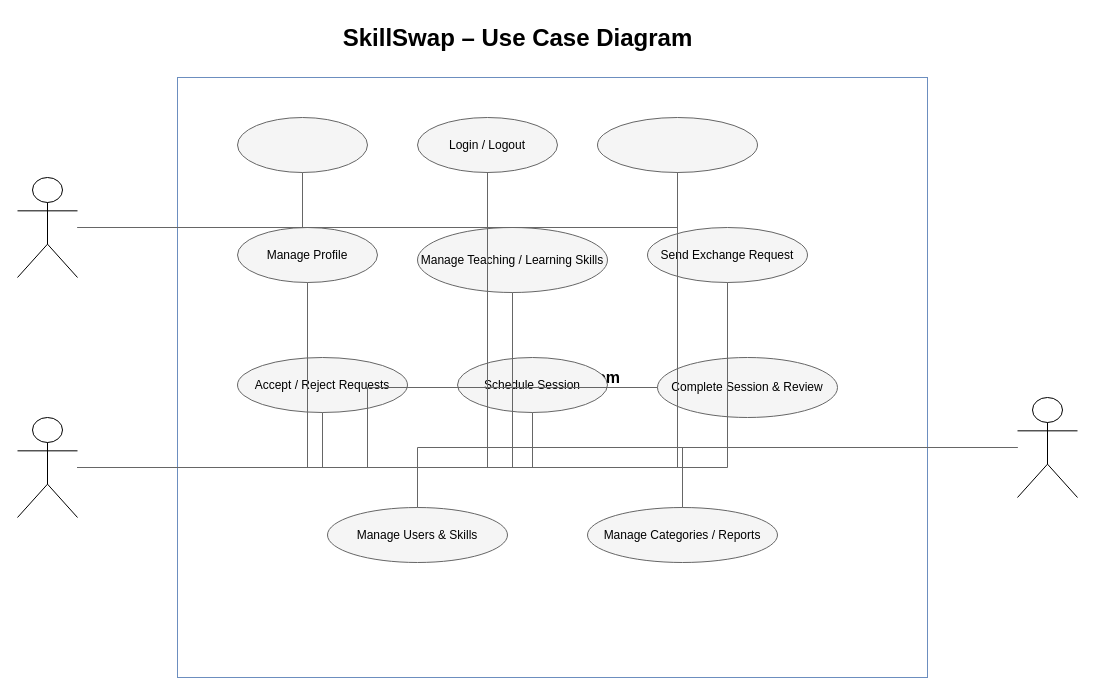
Image size: 1095x695. Some labels were removed from this diagram. Each missing label, with the centre of its shape:
"Admin" goes at (x=1047, y=447).
"Browse Skills & Users" goes at (x=677, y=144).
"Guest" goes at (x=47, y=227).
"Register" goes at (x=302, y=144).
"User" goes at (x=47, y=467).
